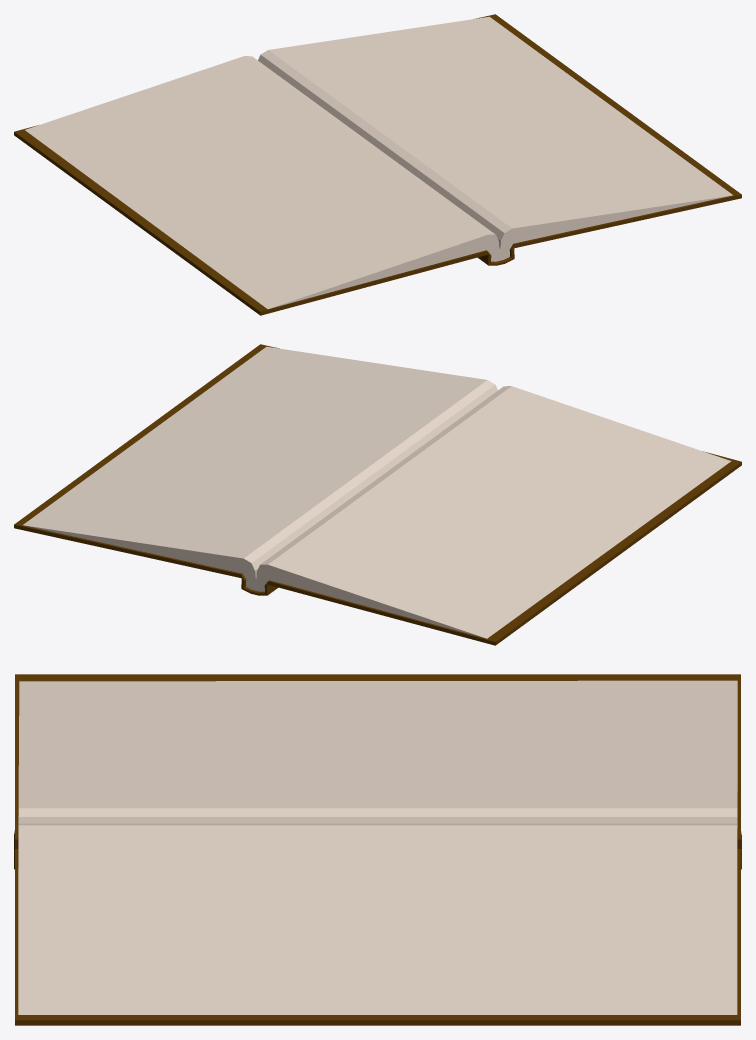
Rendered from Book Open.fbx.
3 views of the same model, one above another, from view 1: azimuth 30°, elevation 25°; view 2: azimuth 150°, elevation 25°; view 3: azimuth 270°, elevation 25° (orthographic). The views are drawn at different scales.
Visible parts, largest first — view 1: pCube1; view 2: pCube1; view 3: pCube1.
Part boxes in pixels (bbox=[...]): pCube1: bbox=[14, 14, 741, 315]; pCube1: bbox=[14, 344, 741, 645]; pCube1: bbox=[14, 674, 741, 1025].
Bounding box in the file's own units: 18.01 × 1.15 × 16.
